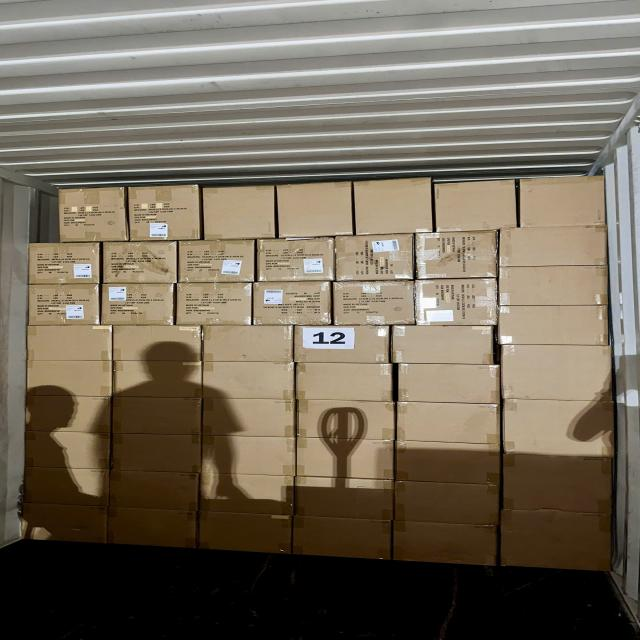Carton: (501, 510, 612, 577), (501, 396, 616, 459), (502, 454, 612, 517), (500, 342, 613, 402), (392, 522, 498, 570), (501, 264, 612, 307), (521, 176, 608, 230), (500, 307, 611, 349), (394, 481, 499, 525), (398, 359, 502, 402), (354, 178, 431, 236), (502, 225, 610, 266), (396, 444, 501, 486), (397, 403, 501, 445), (294, 518, 392, 562), (130, 183, 203, 242), (201, 513, 294, 559), (280, 182, 356, 238), (197, 472, 293, 516), (294, 478, 394, 520), (433, 179, 512, 232), (298, 436, 397, 478), (392, 326, 495, 366), (297, 361, 395, 402), (298, 400, 398, 440), (415, 234, 498, 282), (202, 434, 298, 475), (292, 326, 390, 366), (204, 185, 274, 241), (108, 509, 195, 554), (414, 279, 498, 325), (201, 359, 295, 400), (333, 280, 416, 326), (60, 187, 128, 243), (111, 471, 201, 513), (202, 398, 295, 438), (336, 233, 415, 280), (23, 505, 109, 547), (110, 432, 200, 472), (24, 358, 114, 398), (114, 359, 206, 398), (114, 396, 203, 436), (205, 326, 296, 365), (251, 280, 331, 324), (25, 428, 113, 468), (27, 396, 114, 436), (24, 469, 110, 509), (180, 242, 258, 286), (258, 241, 336, 285), (27, 324, 115, 363), (112, 326, 202, 364), (176, 280, 251, 324), (104, 244, 180, 286), (103, 282, 177, 325), (26, 245, 98, 288), (29, 285, 101, 327)
